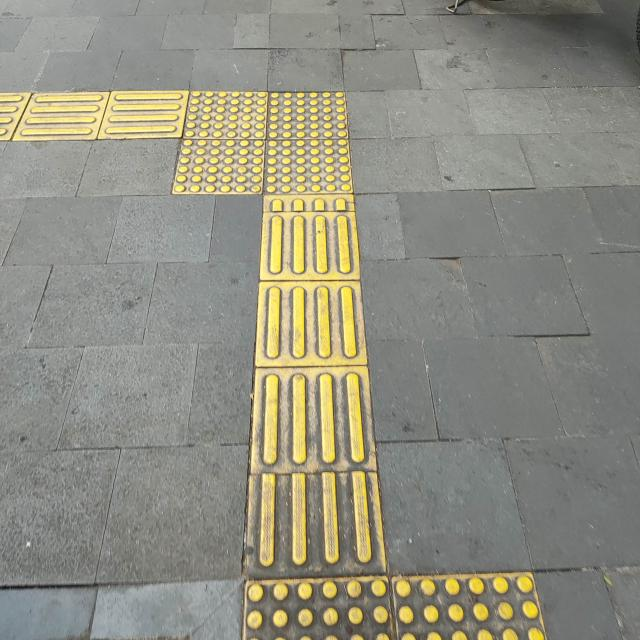kiri: (42, 52, 430, 270)
